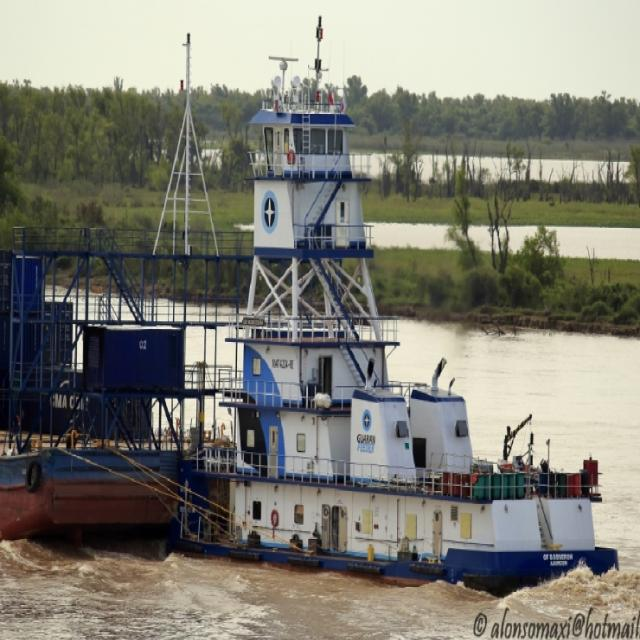tugboat: (175, 53, 628, 605)
